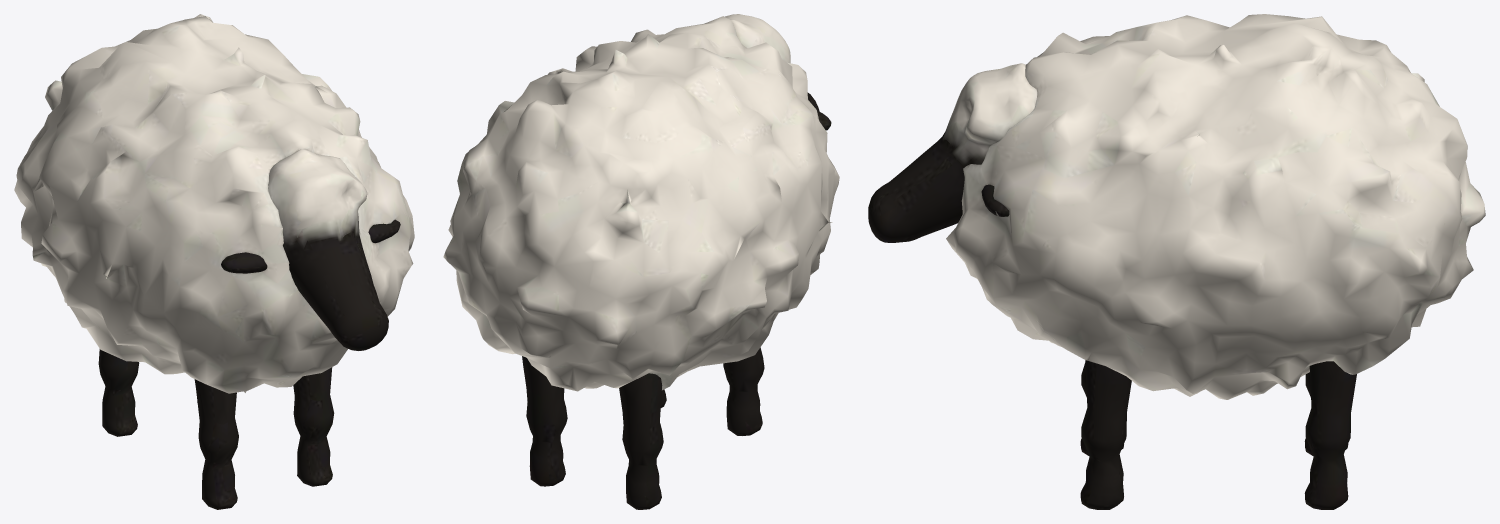
The model's file is animal_suffolk_sheep.glb.
3 renders of one model, left to right at view 1: azimuth 30°, elevation 25°; view 2: azimuth 150°, elevation 25°; view 3: azimuth 270°, elevation 25°, orthographic. The views are drawn at different scales.
Visible parts, largest first — view 1: animal_suffolk_sheep, head, leg0, leg1, leg2; view 2: animal_suffolk_sheep, leg2, leg3, leg0, head; view 3: animal_suffolk_sheep, head, leg3, leg1.
Boxes of the visible parts, x1,y1,x2,y2 form: animal_suffolk_sheep: [14, 14, 414, 393]; head: [221, 149, 400, 350]; leg0: [194, 379, 238, 509]; leg1: [293, 367, 334, 486]; leg2: [98, 349, 139, 436]; animal_suffolk_sheep: [443, 16, 839, 391]; leg2: [619, 373, 663, 509]; leg3: [522, 356, 567, 486]; leg0: [723, 347, 764, 435]; head: [725, 14, 831, 130]; animal_suffolk_sheep: [946, 14, 1485, 399]; head: [868, 63, 1037, 242]; leg3: [1304, 361, 1356, 509]; leg1: [1080, 360, 1131, 509].
Size of the model in its own units: 0.3617 by 0.4513 by 0.5511.
1 material, 1 textured.
